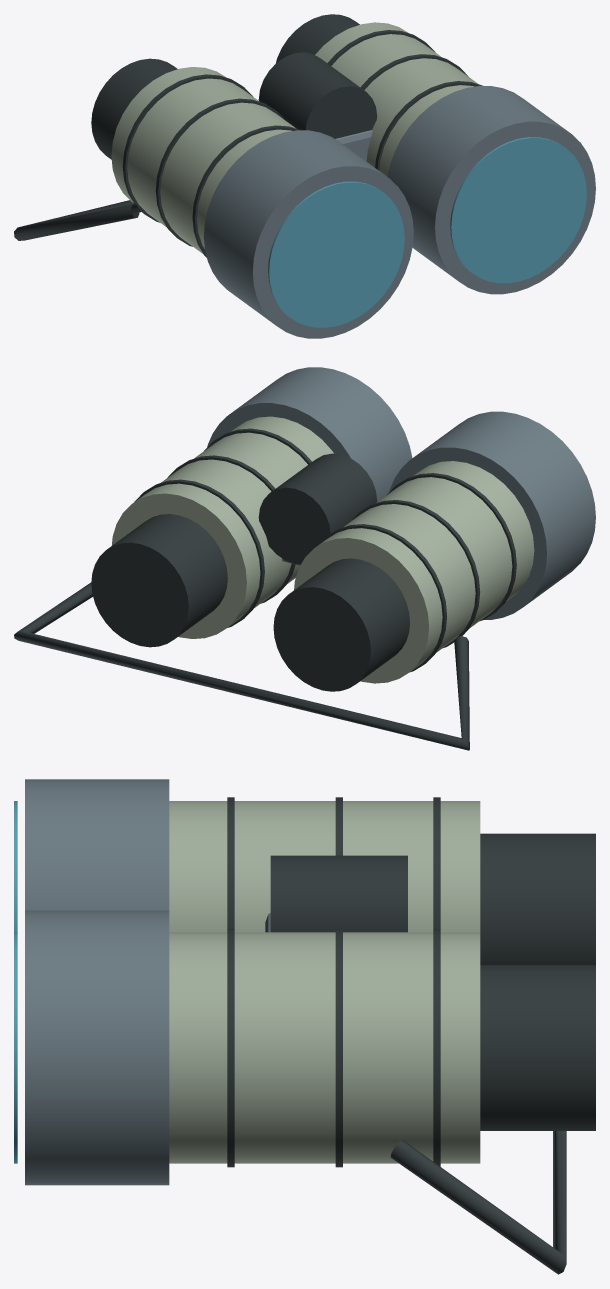
Rendered from loot_binoculars.glb.
3 views of the same model, one above another, from view 1: azimuth 30°, elevation 25°; view 2: azimuth 150°, elevation 25°; view 3: azimuth 270°, elevation 25° (orthographic). The views are drawn at different scales.
Visible parts, largest first — view 1: loot_binoculars; view 2: loot_binoculars; view 3: loot_binoculars.
Boxes of the visible parts, x1,y1,x2,y2 form: loot_binoculars: (14,14,595,338); loot_binoculars: (14,367,595,750); loot_binoculars: (14,779,595,1274).
Bounding box in the file's own units: 0.215 × 0.0776 × 0.161.
